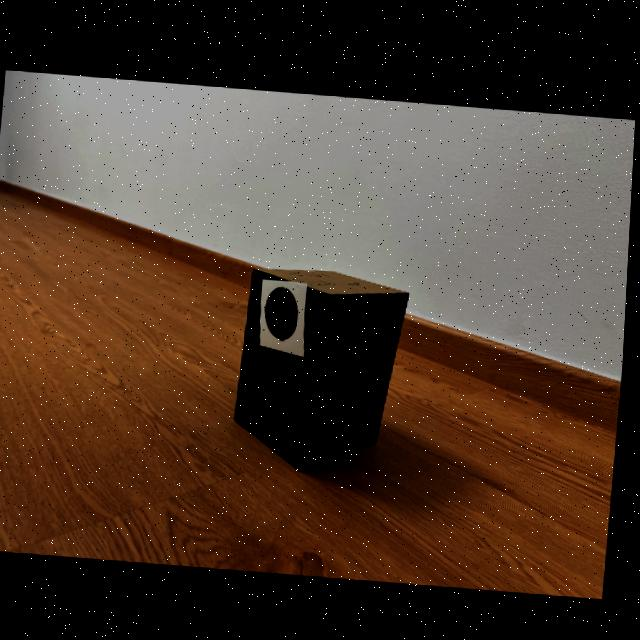CIRCLE: (267, 284, 301, 337)
